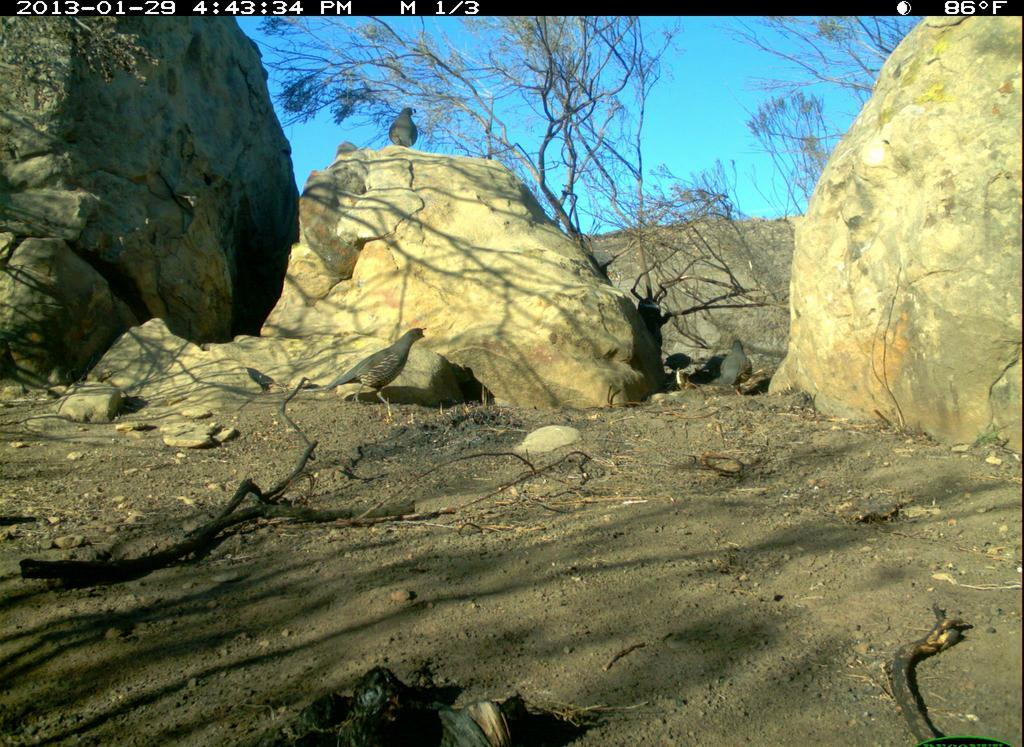bird: (324, 319, 431, 414), (719, 334, 758, 393), (387, 99, 425, 154), (663, 353, 694, 379)
